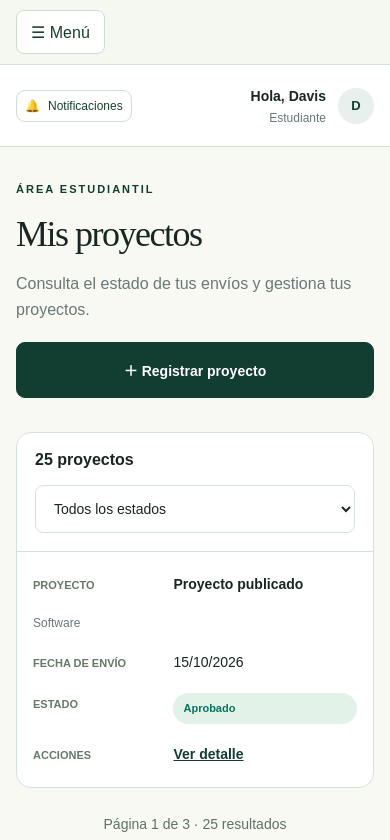
Mejoras del repositorio › abre y cierra el menú compacto con Escape
The image size is (390, 840).
Click the button "☰ Menú" at (60, 32), box [16, 10, 105, 54]
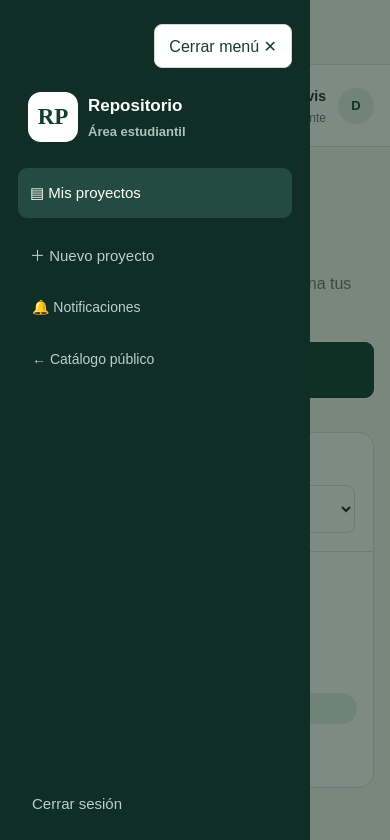
Result: the button named "☰ Menú" is expanded at [16, 10, 154, 54]
Press Escape
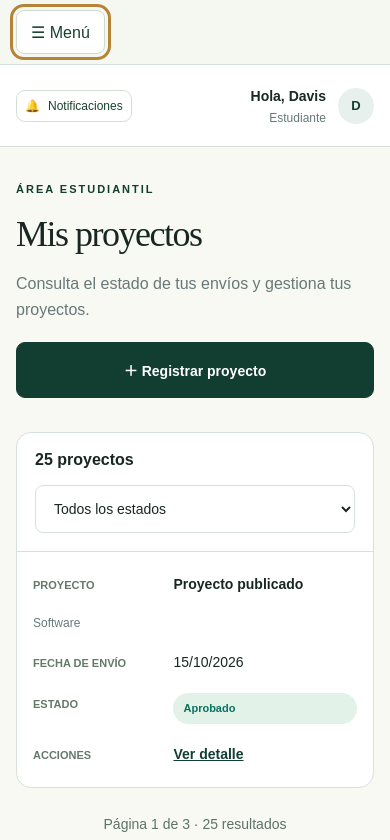
Result: the button "☰ Menú" is collapsed at [16, 10, 105, 54]
